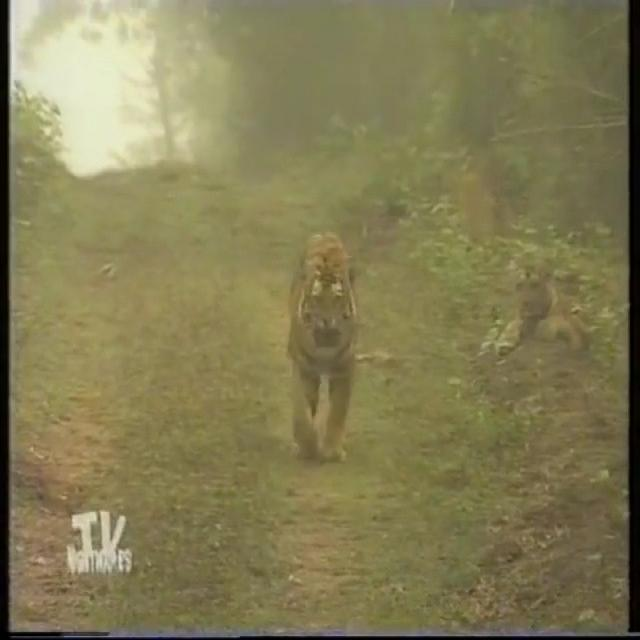TIGER: (275, 213, 373, 468)
